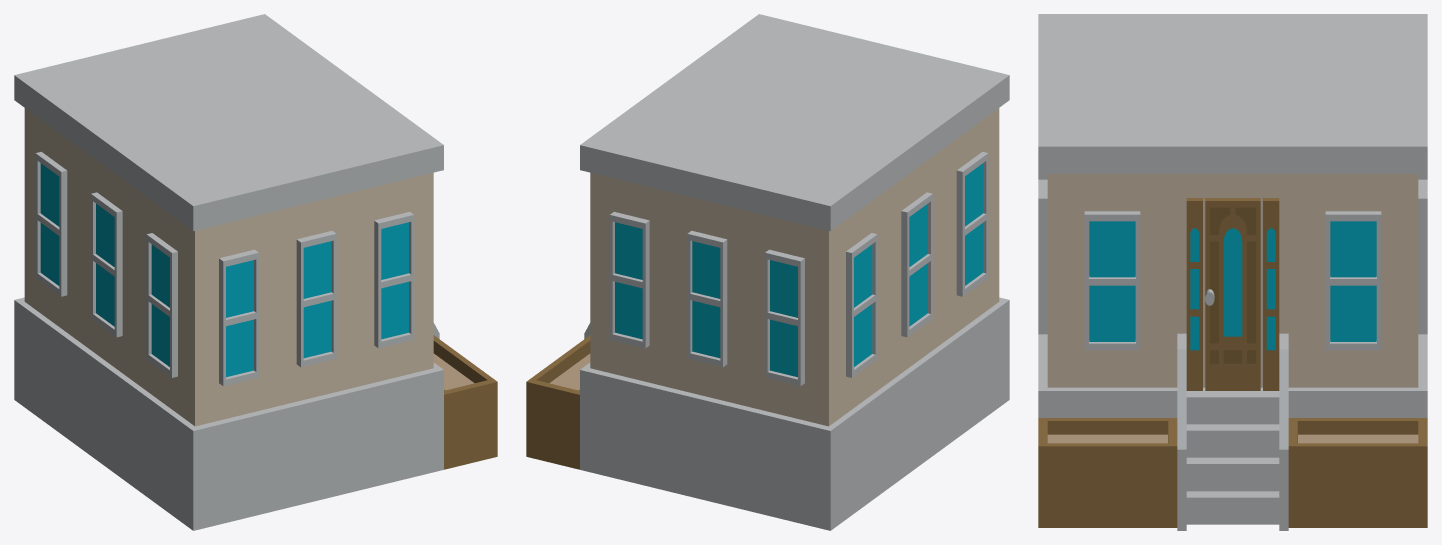
File: StunningWaasa.glb
3 views of the same model, side by side, from view 1: azimuth 30°, elevation 25°; view 2: azimuth 150°, elevation 25°; view 3: azimuth 270°, elevation 25° (orthographic). The views are drawn at different scales.
Visible parts, largest first — view 1: Mesh_Mesh_head_geo.001_lambert2SG.001; view 2: Mesh_Mesh_head_geo.001_lambert2SG.001; view 3: Mesh_Mesh_head_geo.001_lambert2SG.001.
Boxes of the visible parts, left/top/right/bottom form: Mesh_Mesh_head_geo.001_lambert2SG.001: left=14, top=14, right=497, bottom=530; Mesh_Mesh_head_geo.001_lambert2SG.001: left=526, top=14, right=1009, bottom=530; Mesh_Mesh_head_geo.001_lambert2SG.001: left=1038, top=14, right=1427, bottom=530.
Size of the model in its own units: 4 by 4 by 4.
